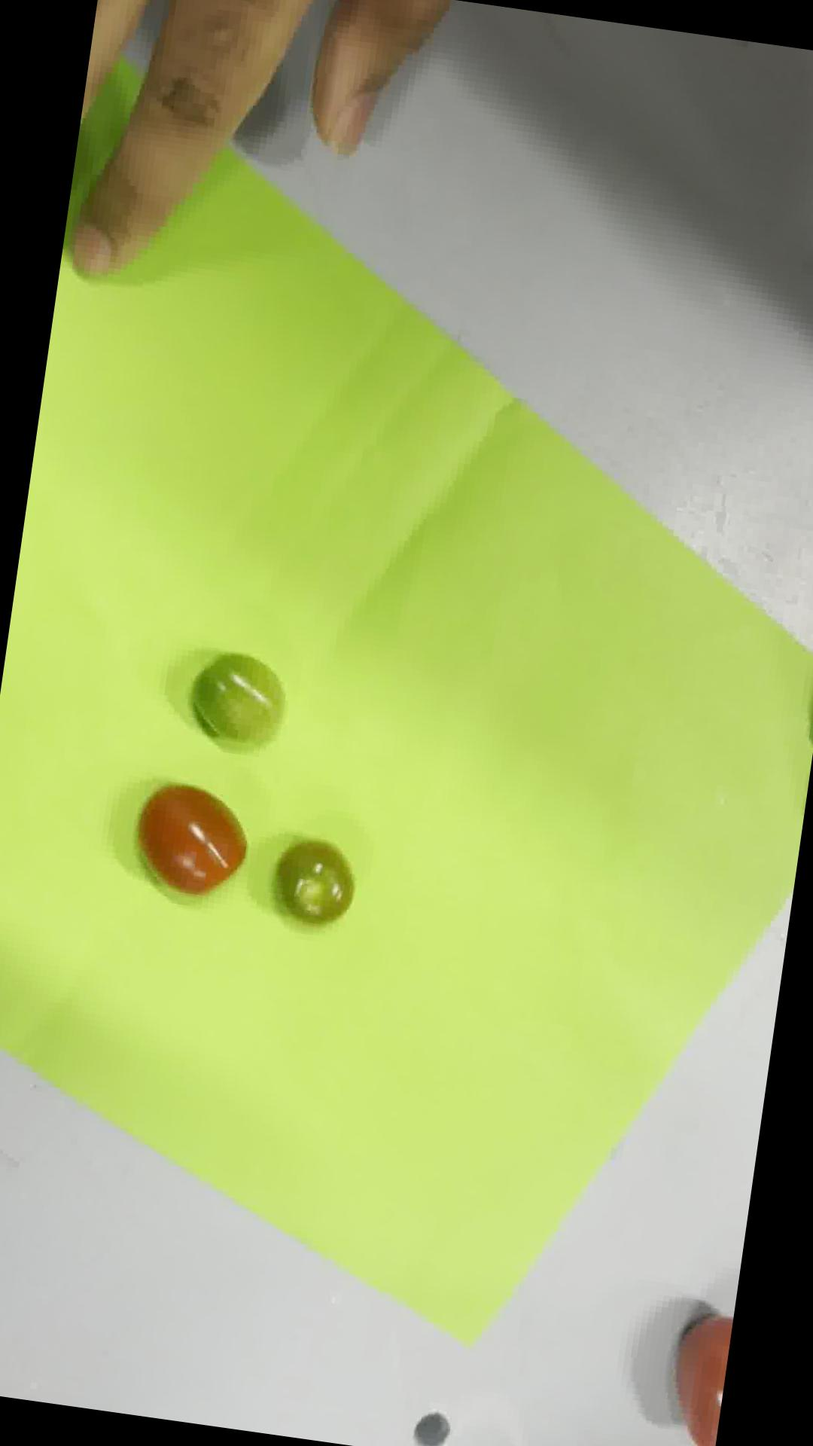green_cherry_tomato: (190, 652, 284, 750)
red_cherry_tomato: (138, 784, 246, 896)
yellow_cherry_tomato: (278, 841, 354, 922)
